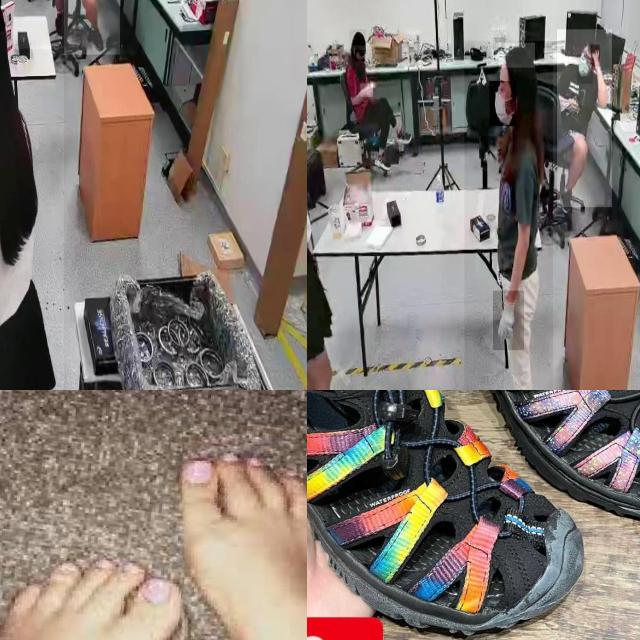Barefoots: (162, 430, 307, 640), (0, 542, 195, 640)
Sandals: (307, 390, 602, 640), (375, 390, 640, 537)
face_mask: (490, 81, 516, 126), (577, 54, 593, 84)
face_nomask: (355, 50, 365, 62)
hand_glove: (493, 291, 525, 351)
hand_noglove: (565, 97, 580, 115), (590, 44, 600, 68), (361, 84, 374, 98)
head_nohelmet: (498, 42, 536, 68), (349, 29, 366, 46), (583, 34, 603, 46)
person: (464, 41, 553, 390), (0, 0, 64, 390), (307, 31, 355, 390), (557, 29, 613, 208), (63, 0, 120, 55)
shoes: (88, 21, 105, 55), (373, 150, 392, 175), (394, 126, 413, 147)
